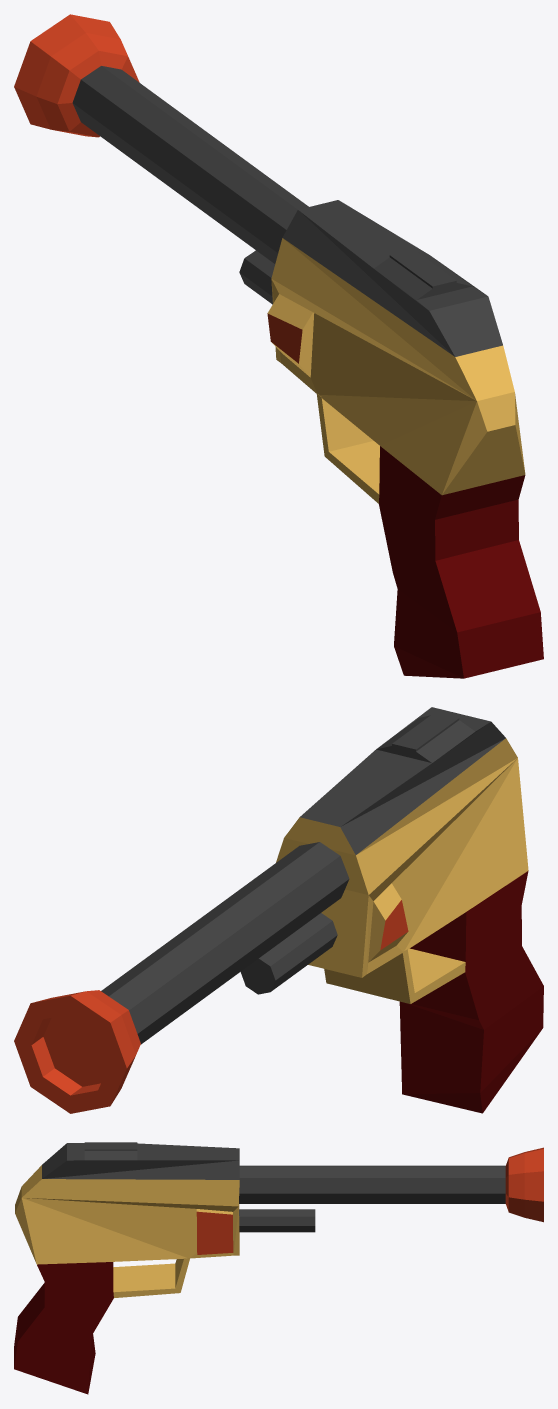
The model's file is laserPistol.fbx.
The picture shows the model from 3 angles, top to bottom: view 1: azimuth 30°, elevation 25°; view 2: azimuth 150°, elevation 25°; view 3: azimuth 270°, elevation 25°; orthographic projection. The views are drawn at different scales.
Parts seen in each view (by area): view 1: Cube; view 2: Cube; view 3: Cube.
Boxes of the visible parts, x1,y1,x2,y2 form: Cube: [14, 14, 543, 678]; Cube: [14, 707, 543, 1113]; Cube: [14, 1142, 543, 1394].
Size of the model in its own units: 0.6249 by 2.02 by 4.1.
